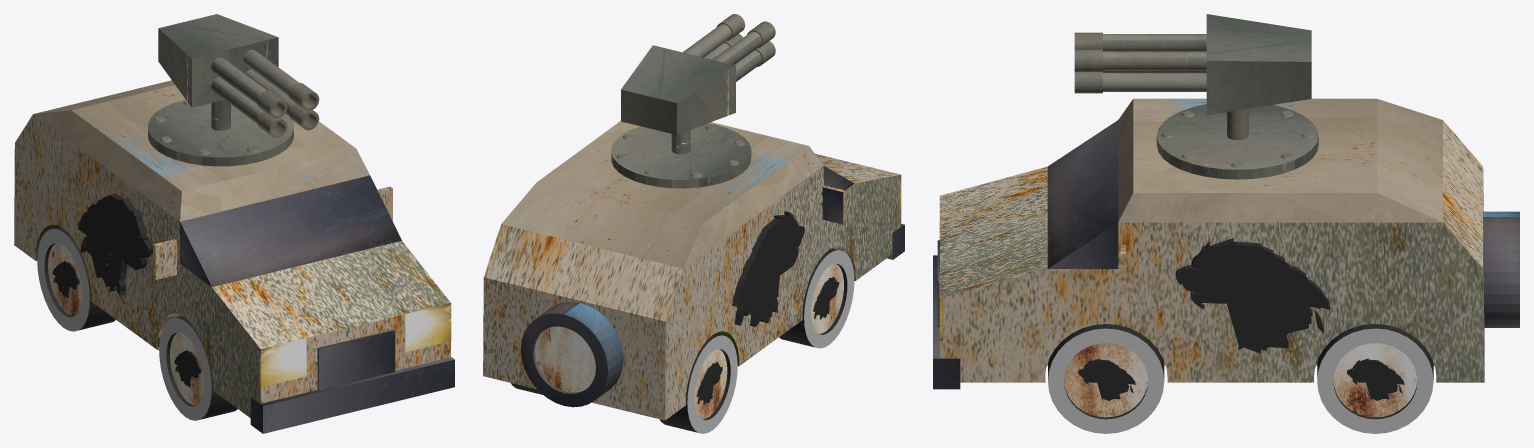
The model's file is basic(2).fbx.
3 views of the same model, side by side, from view 1: azimuth 30°, elevation 25°; view 2: azimuth 150°, elevation 25°; view 3: azimuth 270°, elevation 25° (orthographic). The views are drawn at different scales.
Parts seen in each view (by area): view 1: ciało, działo, koło.004, koło.003, światła; view 2: ciało, działo, koło.003, koło.004; view 3: ciało, działo, koło.001, koło.002, ciało.001.
Part boxes in pixels (x1=…): ciało: x1=14, y1=80, x2=454, y2=433; działo: x1=158, y1=14, x2=319, y2=137; koło.004: x1=37, y1=227, x2=115, y2=331; koło.003: x1=159, y1=316, x2=237, y2=420; światła: x1=259, y1=303, x2=451, y2=387; ciało: x1=483, y1=121, x2=904, y2=420; działo: x1=621, y1=14, x2=775, y2=134; koło.003: x1=779, y1=248, x2=854, y2=348; koło.004: x1=659, y1=333, x2=737, y2=433; ciało: x1=933, y1=98, x2=1519, y2=389; działo: x1=1074, y1=14, x2=1311, y2=115; koło.001: x1=1048, y1=324, x2=1164, y2=433; koło.002: x1=1317, y1=324, x2=1433, y2=433; ciało.001: x1=1175, y1=238, x2=1330, y2=353.
Bounding box in the file's own units: 197 × 383 × 248.
